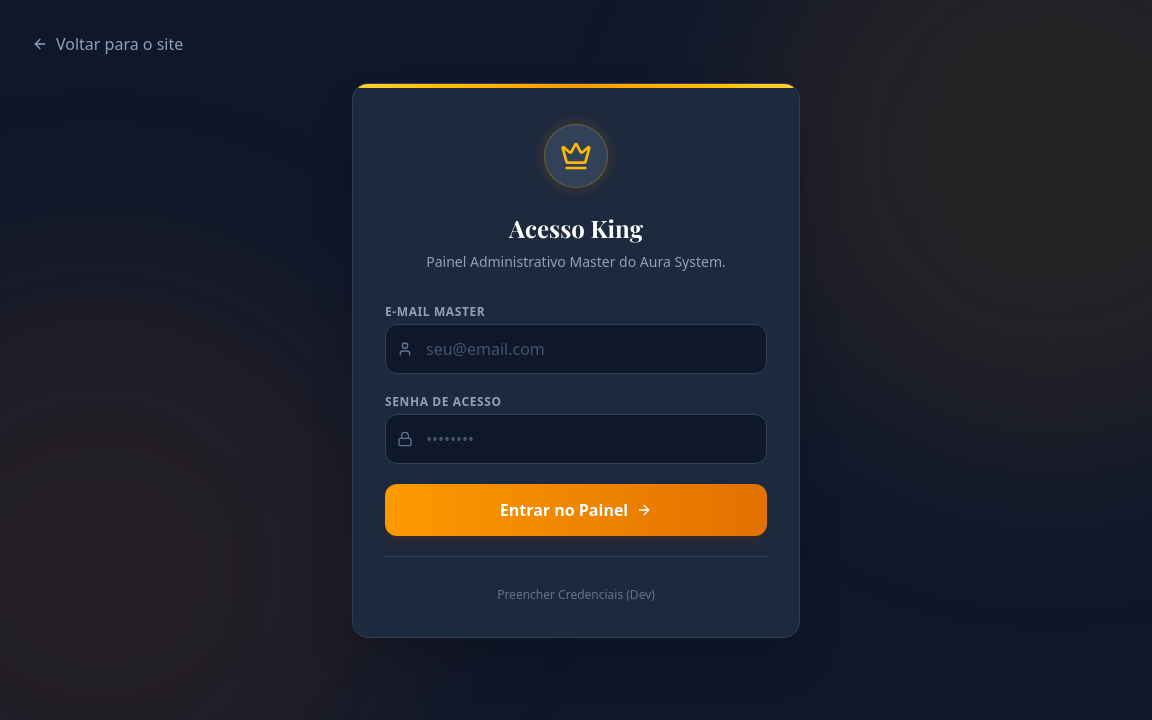
Test: pages/KingLogin › credenciais inválidas (login retorna false) exibe mensagem de erro genérica
The width and height of the screenshot is (1152, 720).
Type "king@aura.system" into the field with placeholder "seu@email.com" at (576, 348), box [385,324,767,374]
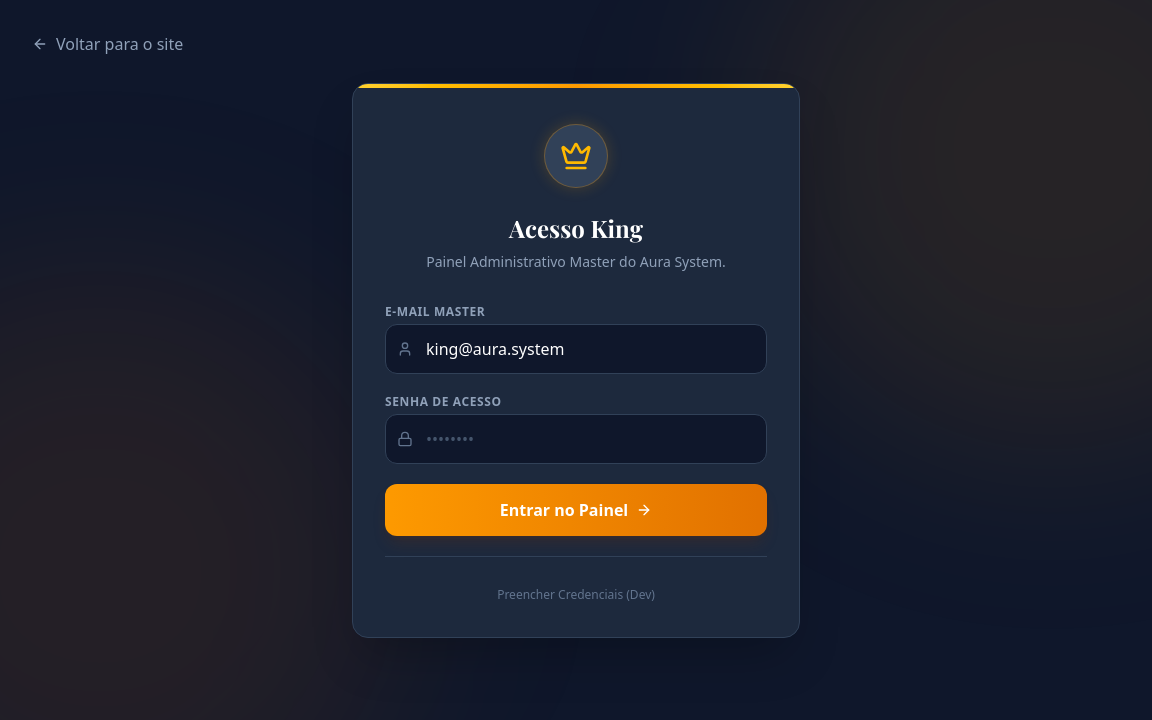
Type "admin" into the password field with placeholder "••••••••" at (576, 438), box [385,414,767,464]
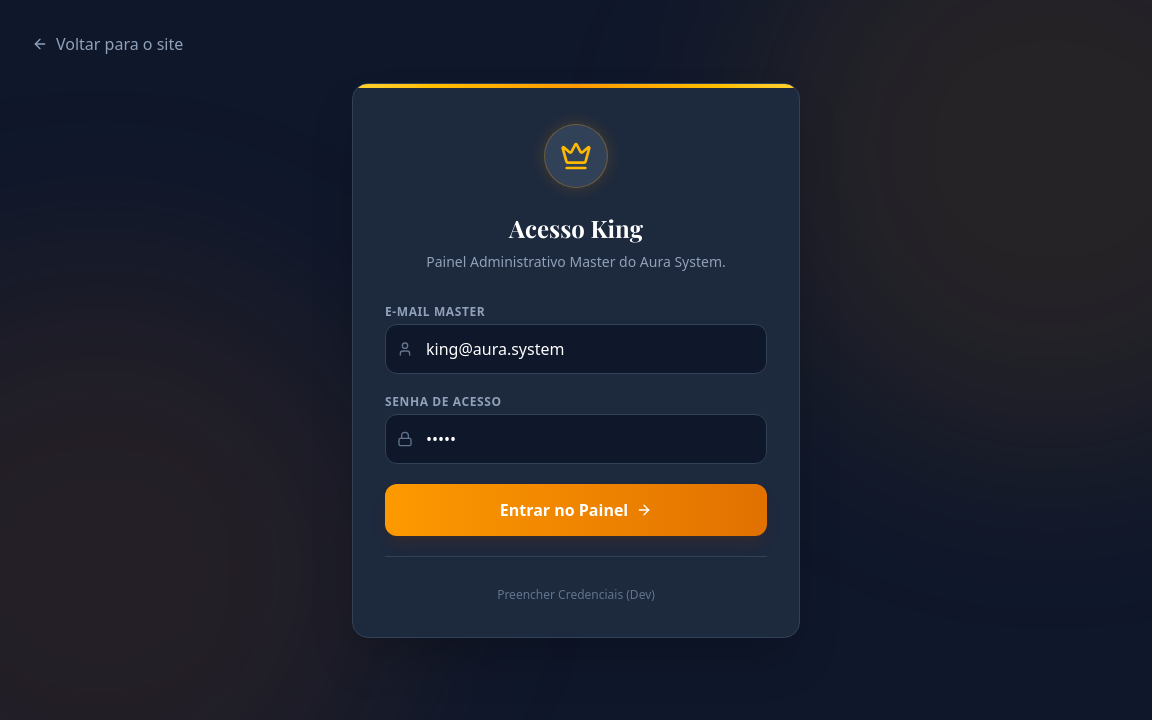
Click the button "Entrar no Painel" at (576, 510), box [385,484,767,536]
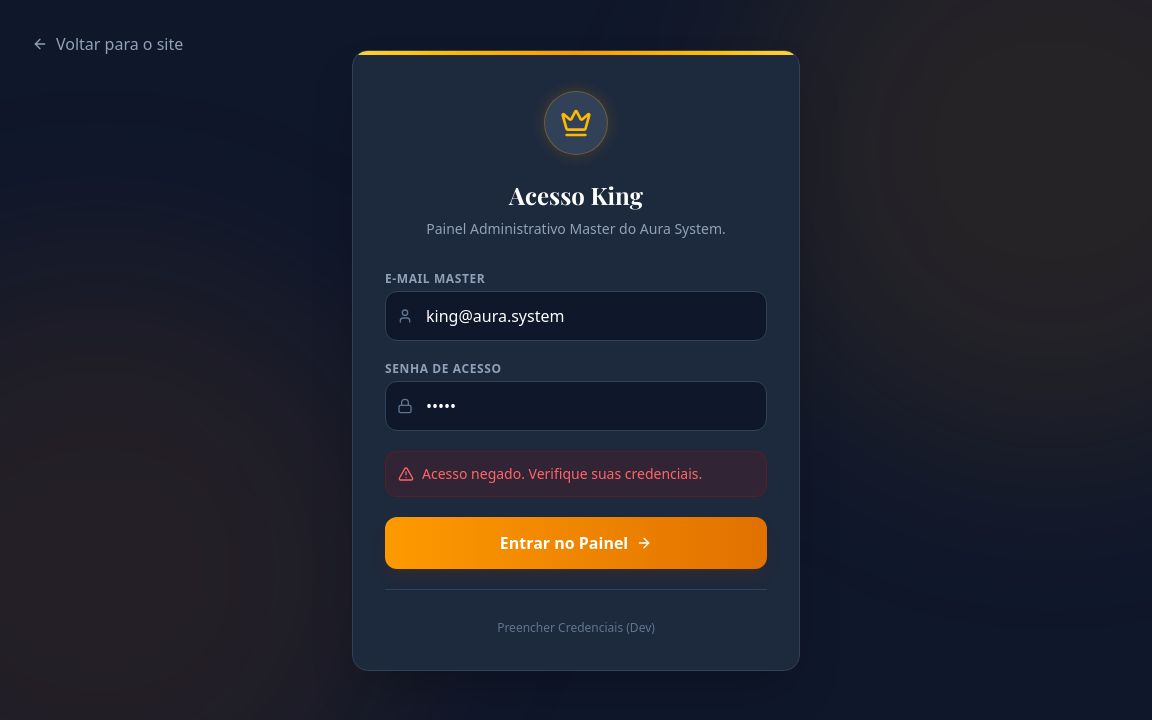
Result: the text "Acesso negado. Verifique suas credenciais." is shown at [385,450,767,496]
